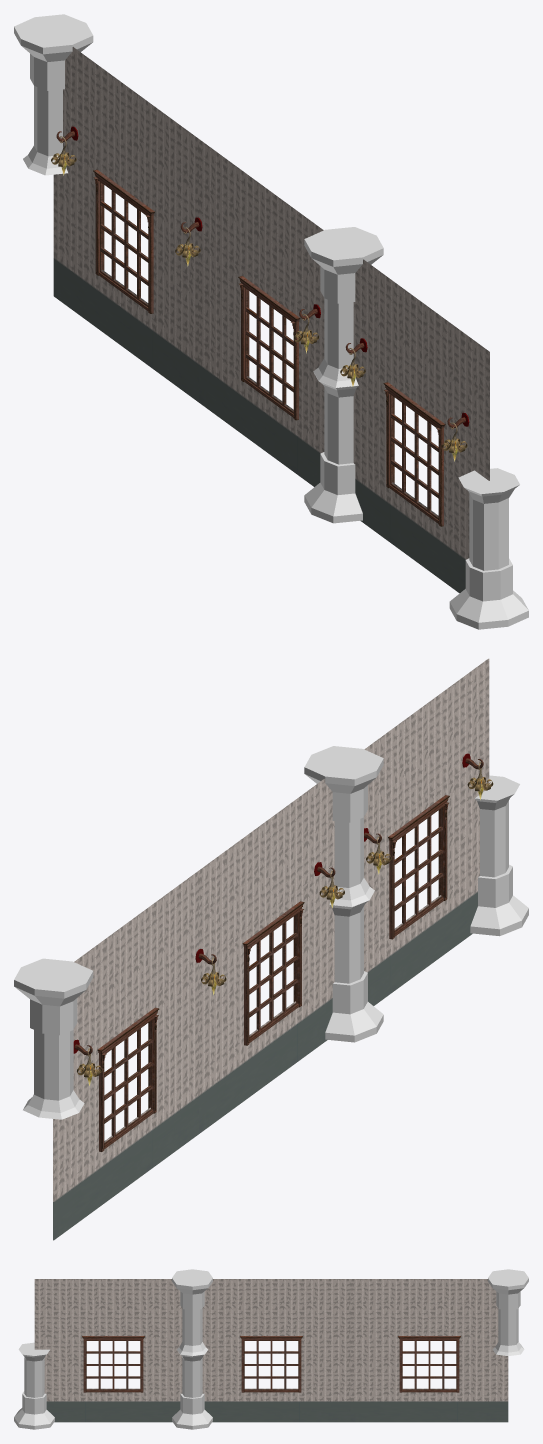
The model's file is NoGlassWall.fbx.
3 renders of one model, top to bottom at view 1: azimuth 30°, elevation 25°; view 2: azimuth 150°, elevation 25°; view 3: azimuth 270°, elevation 25°, orthographic. The views are drawn at different scales.
Parts seen in each view (by area): view 1: window_wall, window_wall.003, window_wall.002, pillar_down002, pillar_up002, pillar_up, pillar_down, window_low, window_low.002, window_low.001; view 2: window_wall.002, window_wall, window_wall.003, pillar_up, pillar_up002, pillar_down002, pillar_down, window_low.001, window_low.002, window_low; view 3: window_wall.005, window_wall.001, window_wall.004, pillar_up, pillar_up002, pillar_down002, pillar_down, window_low, window_low.001, window_low.002.
Part boxes in pixels (box(x1,y1,x2,y2)): window_wall: box(53, 47, 198, 402); window_wall.003: box(353, 260, 489, 593); window_wall.002: box(199, 140, 324, 486); pillar_down002: box(449, 468, 528, 629); pillar_up002: box(304, 227, 383, 387); pillar_up: box(14, 14, 93, 175); pillar_down: box(304, 373, 362, 523); window_low: box(93, 169, 154, 313); window_low.002: box(238, 276, 300, 420); window_low.001: box(383, 382, 445, 526); window_wall.002: box(199, 779, 334, 1133); window_wall: box(53, 871, 198, 1240); window_wall.003: box(364, 659, 489, 1005); pillar_up: box(14, 958, 93, 1119); pillar_up002: box(304, 746, 383, 907); pillar_down002: box(470, 775, 528, 936); pillar_down: box(325, 891, 383, 1042); window_low.001: box(388, 795, 449, 939); window_low.002: box(242, 901, 304, 1045); window_low: box(97, 1007, 159, 1151); window_wall.005: box(350, 1279, 508, 1422); window_wall.001: box(202, 1279, 350, 1422); window_wall.004: box(34, 1279, 182, 1422); pillar_up: box(488, 1269, 528, 1356); pillar_up002: box(172, 1269, 212, 1356); pillar_down002: box(14, 1342, 54, 1429); pillar_down: box(172, 1354, 212, 1429); window_low: box(398, 1336, 460, 1392); window_low.001: box(82, 1336, 144, 1392); window_low.002: box(240, 1336, 302, 1392).
Size of the model in its own units: 520 by 2016 by 6520.
